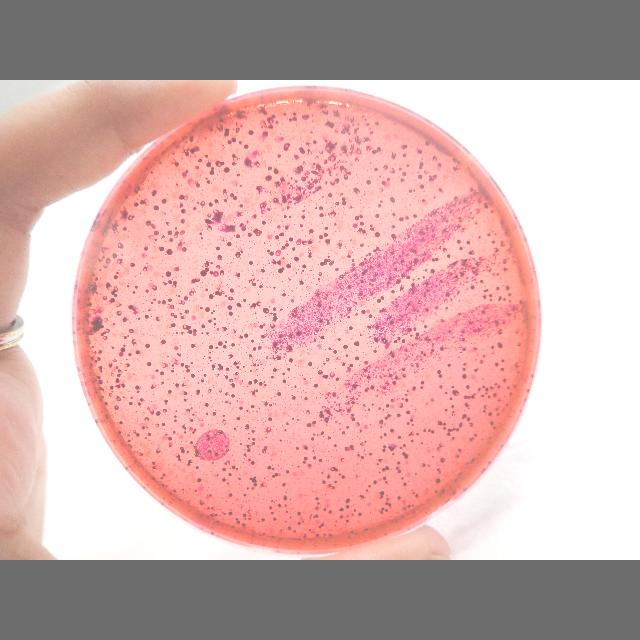colony: (234, 110, 250, 122), (324, 141, 338, 153), (212, 209, 224, 223), (243, 156, 253, 170), (172, 158, 182, 170), (181, 149, 193, 159), (256, 107, 268, 117), (292, 164, 304, 174), (340, 144, 350, 156), (190, 146, 200, 156), (325, 120, 335, 130), (272, 354, 282, 364), (254, 186, 266, 194), (451, 164, 461, 173), (216, 158, 224, 168), (222, 166, 232, 174), (332, 109, 340, 119), (283, 142, 291, 152), (328, 152, 336, 162), (306, 100, 316, 108), (428, 175, 438, 183), (452, 157, 462, 165), (218, 116, 228, 124), (133, 186, 143, 194), (234, 210, 244, 218), (204, 218, 214, 226), (264, 425, 272, 435), (291, 308, 299, 318), (340, 271, 350, 279), (354, 136, 362, 146), (352, 187, 361, 195), (286, 343, 294, 352), (408, 248, 418, 255), (194, 180, 202, 188), (231, 154, 239, 162), (223, 128, 231, 136), (298, 147, 306, 155), (306, 148, 314, 156), (342, 124, 350, 132), (424, 140, 432, 148), (390, 151, 398, 159), (216, 124, 224, 132), (180, 208, 188, 216), (206, 225, 214, 233), (254, 228, 262, 236), (265, 174, 273, 182), (336, 240, 344, 248), (166, 248, 174, 256), (117, 242, 125, 250), (199, 270, 207, 278), (262, 307, 270, 315), (380, 336, 388, 344), (423, 280, 431, 288), (461, 258, 469, 266), (472, 268, 480, 276), (511, 304, 519, 312), (388, 350, 396, 358), (432, 207, 440, 215), (312, 170, 321, 177), (418, 162, 424, 172), (222, 189, 228, 199), (350, 384, 360, 390), (408, 288, 418, 294), (205, 161, 212, 169), (208, 124, 215, 132), (160, 198, 168, 205), (213, 198, 220, 206), (354, 340, 361, 348), (272, 198, 280, 205), (379, 307, 388, 313), (449, 261, 458, 267), (196, 158, 204, 164), (208, 170, 216, 176), (180, 172, 188, 178), (266, 118, 274, 124), (302, 114, 310, 120), (321, 110, 329, 116), (320, 104, 328, 110), (344, 114, 350, 122), (400, 145, 408, 151), (388, 167, 396, 173), (152, 190, 158, 198), (178, 194, 184, 202), (200, 200, 206, 208), (271, 258, 277, 266), (292, 256, 300, 262), (325, 239, 331, 247), (296, 238, 302, 246), (274, 168, 280, 176), (374, 232, 382, 238), (390, 196, 396, 204), (164, 221, 172, 227), (128, 215, 136, 221), (142, 265, 148, 273), (166, 270, 172, 278), (106, 282, 112, 290), (146, 360, 152, 368), (390, 233, 398, 239), (218, 270, 226, 276), (215, 264, 223, 270), (213, 270, 219, 278), (217, 254, 223, 262), (234, 272, 242, 278), (233, 360, 241, 366), (260, 333, 268, 339), (250, 302, 256, 310), (358, 260, 366, 266), (317, 318, 325, 324), (221, 326, 229, 332), (452, 390, 460, 396), (384, 380, 390, 388), (363, 366, 369, 374), (344, 381, 352, 387), (272, 340, 278, 348), (287, 332, 293, 340), (374, 336, 380, 344), (399, 284, 405, 292), (400, 272, 406, 280), (399, 258, 405, 266), (374, 262, 382, 268), (474, 261, 482, 267), (466, 320, 474, 326), (424, 336, 432, 342), (357, 227, 363, 235), (418, 230, 426, 236), (441, 228, 449, 234), (260, 202, 266, 210), (282, 195, 288, 203), (287, 192, 293, 200), (329, 178, 335, 186), (338, 165, 346, 171), (314, 163, 322, 169), (314, 186, 322, 192), (355, 146, 361, 154), (253, 162, 260, 168), (339, 104, 346, 110), (438, 188, 444, 195), (302, 240, 308, 247), (180, 230, 186, 237), (125, 362, 132, 368), (244, 424, 250, 431), (193, 452, 200, 458), (494, 319, 500, 326), (500, 240, 506, 247), (388, 275, 392, 285), (234, 127, 240, 133), (248, 130, 254, 136), (262, 131, 268, 137), (268, 124, 274, 130), (270, 114, 276, 120), (292, 116, 298, 122), (294, 155, 300, 161), (323, 159, 329, 165), (417, 150, 423, 156), (383, 165, 389, 171), (380, 181, 386, 187), (399, 178, 405, 184), (376, 146, 382, 152), (366, 179, 372, 185), (354, 157, 360, 163), (192, 206, 198, 212), (207, 201, 213, 207), (232, 195, 238, 201), (239, 203, 245, 209), (252, 214, 258, 220), (235, 233, 241, 239), (246, 231, 252, 237), (238, 222, 244, 228), (220, 237, 226, 243), (288, 236, 294, 242), (235, 252, 241, 258), (238, 248, 244, 254), (248, 260, 254, 266), (276, 260, 282, 266), (286, 263, 292, 269), (277, 268, 283, 274), (302, 264, 308, 270), (298, 280, 304, 286), (334, 266, 340, 272), (318, 234, 324, 240), (300, 214, 306, 220), (348, 204, 354, 210), (353, 223, 359, 229), (390, 224, 396, 230), (398, 216, 404, 222), (133, 202, 139, 208), (153, 205, 159, 211), (180, 218, 186, 224), (146, 220, 152, 226), (154, 230, 160, 236), (180, 239, 186, 245), (176, 242, 182, 248), (122, 226, 128, 232), (112, 253, 118, 259), (130, 262, 136, 268), (174, 266, 180, 272), (113, 274, 119, 280), (110, 298, 116, 304), (116, 310, 122, 316), (128, 304, 134, 310), (144, 314, 150, 320), (182, 324, 188, 330), (128, 328, 134, 334), (118, 352, 124, 358), (105, 328, 111, 334), (86, 302, 92, 308), (96, 356, 102, 362), (97, 379, 103, 385), (108, 392, 114, 398), (116, 396, 122, 402), (477, 197, 483, 203), (442, 247, 448, 253), (204, 261, 210, 267), (290, 298, 296, 304), (208, 294, 214, 300), (227, 305, 233, 311), (228, 311, 234, 317), (256, 301, 262, 307), (272, 306, 278, 312), (238, 334, 244, 340), (217, 341, 223, 347), (208, 344, 214, 350), (228, 354, 234, 360), (248, 354, 254, 360), (230, 382, 236, 388), (250, 390, 256, 396), (307, 361, 313, 367), (182, 390, 188, 396), (224, 391, 230, 397), (250, 362, 256, 368), (272, 316, 278, 322), (318, 261, 324, 267), (328, 260, 334, 266), (362, 269, 368, 275), (352, 272, 358, 278), (346, 284, 352, 290), (358, 290, 364, 296), (346, 306, 352, 312), (376, 298, 382, 304), (162, 408, 168, 414), (199, 500, 205, 506), (359, 494, 365, 500), (390, 446, 396, 452), (468, 436, 474, 442), (437, 420, 443, 426), (464, 402, 470, 408), (482, 404, 488, 410), (438, 384, 444, 390), (465, 384, 471, 390), (461, 374, 467, 380), (251, 476, 257, 482), (266, 464, 272, 470), (324, 417, 330, 423), (346, 407, 352, 413), (326, 391, 332, 397), (358, 428, 364, 434), (335, 376, 341, 382), (322, 374, 328, 380), (342, 344, 348, 350), (316, 302, 322, 308), (314, 291, 320, 297), (374, 324, 380, 330), (378, 308, 384, 314), (395, 278, 401, 284), (394, 266, 400, 272), (408, 266, 414, 272), (412, 258, 418, 264), (369, 282, 375, 288), (410, 282, 416, 288), (454, 274, 460, 280), (501, 259, 507, 265), (497, 342, 503, 348), (492, 392, 498, 398), (387, 372, 393, 378), (330, 210, 336, 216), (420, 236, 426, 242), (457, 216, 463, 222), (462, 197, 468, 203), (475, 208, 481, 214), (468, 249, 474, 255), (493, 247, 499, 253), (478, 256, 484, 262), (296, 186, 302, 192), (334, 178, 340, 184), (308, 183, 314, 189), (348, 150, 354, 156), (366, 145, 372, 151), (363, 137, 369, 143), (202, 155, 210, 159), (350, 116, 354, 124), (184, 195, 188, 203), (296, 330, 300, 338), (208, 514, 216, 518), (370, 278, 378, 282), (446, 272, 454, 276), (458, 272, 466, 276), (242, 225, 246, 232), (350, 444, 354, 451), (409, 343, 416, 347), (184, 169, 190, 173), (194, 166, 200, 170), (244, 144, 248, 150), (239, 140, 243, 146), (226, 140, 232, 144), (274, 121, 280, 125), (292, 112, 298, 116), (313, 140, 317, 146), (306, 142, 312, 146), (276, 154, 282, 158), (334, 128, 338, 134), (366, 122, 370, 128), (341, 130, 345, 136), (354, 128, 358, 134), (374, 122, 380, 126), (369, 130, 373, 136), (348, 138, 352, 144), (432, 156, 436, 162), (437, 162, 441, 168), (402, 171, 406, 177), (422, 170, 428, 174), (418, 174, 422, 180), (420, 184, 424, 190), (372, 150, 378, 154), (328, 192, 332, 198), (190, 136, 194, 142), (175, 144, 181, 148), (181, 136, 187, 140), (172, 141, 178, 145), (222, 199, 228, 203), (230, 192, 234, 198), (266, 208, 272, 212), (262, 220, 266, 226), (206, 214, 212, 218), (226, 242, 232, 246), (274, 235, 280, 239), (279, 232, 285, 236), (280, 246, 286, 250), (284, 243, 290, 247), (282, 292, 286, 298), (347, 254, 351, 260), (324, 232, 328, 238), (268, 234, 272, 240), (308, 239, 312, 245), (310, 229, 314, 235), (320, 212, 324, 218), (302, 176, 306, 182), (342, 200, 346, 206), (358, 214, 364, 218), (354, 216, 360, 220), (360, 242, 364, 248), (392, 212, 396, 218), (405, 215, 409, 221), (168, 230, 172, 236), (144, 246, 148, 252), (160, 246, 164, 252), (168, 238, 174, 242), (145, 288, 149, 294), (152, 286, 158, 290), (92, 272, 96, 278), (94, 276, 98, 282), (102, 296, 108, 300), (156, 316, 160, 322), (110, 291, 116, 295), (114, 286, 118, 292), (162, 299, 166, 305), (191, 279, 195, 285), (184, 310, 190, 314), (192, 328, 198, 332), (193, 332, 197, 338), (187, 324, 191, 330), (200, 324, 206, 328), (206, 306, 210, 312), (208, 318, 212, 324), (122, 318, 128, 322), (146, 343, 150, 349), (132, 343, 138, 347), (120, 348, 126, 352), (98, 366, 104, 370), (107, 364, 113, 368), (96, 375, 102, 379), (117, 384, 121, 390), (135, 386, 141, 390), (114, 406, 120, 410), (128, 401, 134, 405), (159, 371, 165, 375), (412, 214, 418, 218), (372, 249, 378, 253), (454, 195, 458, 201), (469, 188, 475, 192), (456, 240, 462, 244), (466, 240, 470, 246), (478, 234, 482, 240), (446, 254, 452, 258), (210, 260, 214, 266), (204, 268, 210, 272), (209, 270, 213, 276), (252, 282, 256, 288), (229, 288, 235, 292), (236, 302, 242, 306), (260, 324, 264, 330), (252, 347, 258, 351), (231, 342, 235, 348), (222, 345, 228, 349), (210, 364, 216, 368), (216, 372, 220, 378), (218, 366, 224, 370), (273, 368, 277, 374), (234, 372, 240, 376), (228, 378, 234, 382), (248, 380, 252, 386), (253, 378, 257, 384), (282, 378, 286, 384), (288, 358, 294, 362), (304, 396, 308, 402), (262, 402, 268, 406), (251, 404, 255, 410), (238, 406, 244, 410), (306, 423, 312, 427), (180, 362, 184, 368), (184, 364, 190, 368), (174, 384, 180, 388), (212, 412, 218, 416), (218, 388, 222, 394), (231, 393, 235, 399), (272, 313, 278, 317), (308, 250, 312, 256), (323, 259, 327, 265), (354, 300, 358, 306), (361, 310, 367, 314), (368, 314, 374, 318), (348, 326, 354, 330), (366, 325, 372, 329), (314, 328, 320, 332), (278, 334, 284, 338), (192, 344, 198, 348), (233, 329, 237, 335), (156, 411, 160, 417), (144, 416, 148, 422), (155, 423, 159, 429), (161, 422, 167, 426), (188, 458, 192, 464), (175, 455, 181, 459), (197, 478, 203, 482), (314, 514, 320, 518), (314, 506, 320, 510), (338, 507, 344, 511), (345, 504, 349, 510), (373, 480, 377, 486), (379, 491, 385, 495), (388, 502, 392, 508), (402, 506, 406, 512), (384, 466, 390, 470), (436, 478, 440, 484), (440, 457, 444, 463), (404, 453, 408, 459), (410, 430, 414, 436), (430, 430, 436, 434), (378, 420, 384, 424), (406, 410, 410, 416), (436, 446, 440, 452), (438, 443, 444, 447), (462, 413, 466, 419), (459, 422, 463, 428), (469, 422, 473, 428), (412, 386, 416, 392), (156, 448, 160, 454), (215, 452, 219, 458), (218, 430, 224, 434), (195, 448, 199, 454), (232, 464, 236, 470), (249, 442, 255, 446), (262, 448, 266, 454), (263, 446, 269, 450), (282, 482, 286, 488), (303, 446, 309, 450), (344, 446, 348, 452), (342, 431, 346, 437), (318, 414, 324, 418), (332, 392, 336, 398), (340, 475, 346, 479), (326, 474, 330, 480), (307, 464, 313, 468), (340, 458, 346, 462), (330, 467, 336, 471), (360, 442, 364, 448), (260, 482, 264, 488), (384, 404, 390, 408), (390, 398, 396, 402), (399, 402, 403, 408), (365, 386, 369, 392), (392, 380, 396, 386), (366, 376, 372, 380), (317, 370, 323, 374), (325, 357, 331, 361), (342, 361, 346, 367), (354, 357, 360, 361), (347, 366, 351, 372), (330, 372, 334, 378), (276, 345, 280, 351), (326, 320, 330, 326), (338, 294, 344, 298), (394, 338, 398, 344), (400, 339, 406, 343), (414, 332, 420, 336), (394, 304, 400, 308), (370, 291, 374, 297), (424, 308, 430, 312), (439, 318, 445, 322), (404, 254, 410, 258), (420, 258, 426, 262), (368, 266, 374, 270), (423, 292, 427, 298), (470, 266, 476, 270), (470, 284, 474, 290), (482, 294, 486, 300), (480, 310, 486, 314), (476, 328, 482, 332), (460, 329, 466, 333), (460, 338, 466, 342), (472, 347, 478, 351), (430, 348, 434, 354), (399, 314, 405, 318), (386, 315, 392, 319), (462, 362, 468, 366), (515, 362, 519, 368), (513, 384, 517, 390), (488, 386, 494, 390), (401, 374, 407, 378), (394, 374, 398, 380), (350, 267, 356, 271), (362, 230, 366, 236), (424, 226, 430, 230), (428, 212, 432, 218), (441, 216, 447, 220), (450, 202, 456, 206), (484, 202, 488, 208), (312, 180, 318, 184), (304, 171, 310, 175), (344, 174, 348, 180), (346, 170, 350, 176), (321, 168, 325, 174), (350, 144, 354, 150), (272, 351, 278, 354), (456, 290, 459, 296), (206, 180, 210, 184), (232, 162, 236, 166), (232, 138, 236, 142), (283, 112, 287, 116), (288, 118, 292, 122), (280, 137, 284, 141), (324, 139, 328, 143), (319, 150, 323, 154), (314, 155, 318, 159), (356, 122, 360, 126), (364, 118, 368, 122), (368, 138, 372, 142), (402, 154, 406, 158), (406, 164, 410, 168), (374, 168, 378, 172), (386, 177, 390, 181), (408, 190, 412, 194), (412, 189, 416, 193), (421, 199, 425, 203), (162, 150, 166, 154), (144, 167, 148, 171), (175, 182, 179, 186), (180, 204, 184, 208), (246, 220, 250, 224), (216, 246, 220, 250), (267, 249, 271, 253), (270, 252, 274, 256), (292, 247, 296, 251), (261, 269, 265, 273), (281, 266, 285, 270), (298, 278, 302, 282), (272, 286, 276, 290), (318, 272, 322, 276), (325, 226, 329, 230), (333, 222, 337, 226), (299, 224, 303, 228), (277, 225, 281, 229), (283, 215, 287, 219), (288, 215, 292, 219), (302, 209, 306, 213), (319, 206, 323, 210), (268, 167, 272, 171), (340, 192, 344, 196), (335, 202, 339, 206), (342, 197, 346, 201), (360, 222, 364, 226), (375, 214, 379, 218), (378, 204, 382, 208), (380, 188, 384, 192), (161, 235, 165, 239), (152, 225, 156, 229), (154, 238, 158, 242), (182, 248, 186, 252), (175, 231, 179, 235), (174, 234, 178, 238), (142, 254, 146, 258), (99, 268, 103, 272), (126, 284, 130, 288), (132, 290, 136, 294), (168, 280, 172, 284), (173, 281, 177, 285), (172, 285, 176, 289), (119, 302, 123, 306), (137, 317, 141, 321), (152, 298, 156, 302), (114, 294, 118, 298), (168, 298, 172, 302), (177, 294, 181, 298), (184, 296, 188, 300), (170, 312, 174, 316), (173, 315, 177, 319), (182, 315, 186, 319), (172, 323, 176, 327), (169, 324, 173, 328), (188, 330, 192, 334), (213, 322, 217, 326), (162, 340, 166, 344), (112, 322, 116, 326), (132, 339, 136, 343), (128, 352, 132, 356), (136, 351, 140, 355), (111, 346, 115, 350), (104, 336, 108, 340), (87, 297, 91, 301), (91, 345, 95, 349), (98, 350, 102, 354), (93, 350, 97, 354), (90, 356, 94, 360), (115, 378, 119, 382), (117, 373, 121, 377), (110, 385, 114, 389), (99, 386, 103, 390), (121, 384, 125, 388), (99, 398, 103, 402), (104, 402, 108, 406), (137, 390, 141, 394), (138, 402, 142, 406), (140, 398, 144, 402), (155, 369, 159, 373), (166, 354, 170, 358), (368, 253, 372, 257), (376, 247, 380, 251), (487, 233, 491, 237), (491, 240, 495, 244), (459, 247, 463, 251), (435, 257, 439, 261), (424, 268, 428, 272), (430, 269, 434, 273), (205, 288, 209, 292), (243, 298, 247, 302), (228, 296, 232, 300), (262, 323, 266, 327), (244, 334, 248, 338), (225, 367, 229, 371), (236, 365, 240, 369), (224, 375, 228, 379), (259, 382, 263, 386), (270, 375, 274, 379), (282, 372, 286, 376), (277, 392, 281, 396), (292, 396, 296, 400), (268, 418, 272, 422), (312, 420, 316, 424), (306, 410, 310, 414), (237, 417, 241, 421), (251, 430, 255, 434), (186, 369, 190, 373), (191, 374, 195, 378), (201, 378, 205, 382), (161, 381, 165, 385), (168, 390, 172, 394), (183, 398, 187, 402), (196, 392, 200, 396), (205, 403, 209, 407), (190, 418, 194, 422), (207, 388, 211, 392), (225, 400, 229, 404), (257, 346, 261, 350), (268, 312, 272, 316), (308, 255, 312, 259), (351, 259, 355, 263), (351, 263, 355, 267), (360, 280, 364, 284), (328, 306, 332, 310), (355, 313, 359, 317), (380, 296, 384, 300), (338, 338, 342, 342), (320, 336, 324, 340), (164, 400, 168, 404), (174, 419, 178, 423), (186, 408, 190, 412), (193, 428, 197, 432), (190, 441, 194, 445), (180, 446, 184, 450), (195, 465, 199, 469), (178, 458, 182, 462), (152, 466, 156, 470), (212, 506, 216, 510), (228, 512, 232, 516), (228, 493, 232, 497), (222, 478, 226, 482), (238, 477, 242, 481), (236, 520, 240, 524), (242, 522, 246, 526), (261, 518, 265, 522), (248, 514, 252, 518), (283, 496, 287, 500), (297, 512, 301, 516), (287, 526, 291, 530), (293, 530, 297, 534), (262, 532, 266, 536), (308, 528, 312, 532), (304, 532, 308, 536), (315, 533, 319, 537), (328, 510, 332, 514), (339, 515, 343, 519), (346, 498, 350, 502), (358, 512, 362, 516), (367, 484, 371, 488), (384, 508, 388, 512), (384, 502, 388, 506), (385, 497, 389, 501), (397, 496, 401, 500), (383, 476, 387, 480), (381, 468, 385, 472), (378, 459, 382, 463), (395, 466, 399, 470), (397, 469, 401, 473), (422, 463, 426, 467), (382, 448, 386, 452), (390, 429, 394, 433), (402, 443, 406, 447), (388, 445, 392, 449), (402, 452, 406, 456), (423, 429, 427, 433), (428, 428, 432, 432), (409, 418, 413, 422), (387, 414, 391, 418), (397, 413, 401, 417), (447, 432, 451, 436), (458, 449, 462, 453), (473, 433, 477, 437), (447, 428, 451, 432), (456, 428, 460, 432), (442, 422, 446, 426), (444, 408, 448, 412), (451, 404, 455, 408), (466, 417, 470, 421), (490, 422, 494, 426), (488, 412, 492, 416), (464, 396, 468, 400), (467, 396, 471, 400), (471, 395, 475, 399), (421, 381, 425, 385), (438, 374, 442, 378), (127, 438, 131, 442), (136, 433, 140, 437), (148, 433, 152, 437), (168, 444, 172, 448), (207, 437, 211, 441), (226, 448, 230, 452), (222, 467, 226, 471), (243, 453, 247, 457), (250, 461, 254, 465), (278, 438, 282, 442), (246, 444, 250, 448), (246, 448, 250, 452), (271, 467, 275, 471), (285, 470, 289, 474), (275, 473, 279, 477), (304, 457, 308, 461), (302, 461, 306, 465), (312, 456, 316, 460), (318, 458, 322, 462), (311, 437, 315, 441), (320, 431, 324, 435), (327, 436, 331, 440), (368, 452, 372, 456), (364, 439, 368, 443), (346, 425, 350, 429), (319, 410, 323, 414), (351, 413, 355, 417), (351, 417, 355, 421), (356, 422, 360, 426), (338, 408, 342, 412), (362, 403, 366, 407), (350, 397, 354, 401), (314, 384, 318, 388), (322, 480, 326, 484), (328, 484, 332, 488), (331, 486, 335, 490), (338, 472, 342, 476), (335, 468, 339, 472), (404, 398, 408, 402), (370, 385, 374, 389), (382, 386, 386, 390), (322, 362, 326, 366), (334, 350, 338, 354), (336, 356, 340, 360), (345, 354, 349, 358), (349, 363, 353, 367), (364, 361, 368, 365), (313, 338, 317, 342), (301, 309, 305, 313), (390, 320, 394, 324), (407, 328, 411, 332), (414, 336, 418, 340), (407, 302, 411, 306), (391, 290, 395, 294), (446, 292, 450, 296), (435, 306, 439, 310), (458, 312, 462, 316), (407, 275, 411, 279), (401, 251, 405, 255), (374, 272, 378, 276), (383, 256, 387, 260), (426, 288, 430, 292), (432, 290, 436, 294), (440, 280, 444, 284), (465, 276, 469, 280), (488, 268, 492, 272), (504, 267, 508, 271), (506, 286, 510, 290), (489, 294, 493, 298), (489, 298, 493, 302), (498, 296, 502, 300), (507, 293, 511, 297), (507, 313, 511, 317), (518, 300, 522, 304), (473, 328, 477, 332), (490, 345, 494, 349), (462, 347, 466, 351), (440, 346, 444, 350), (448, 330, 452, 334), (420, 351, 424, 355), (404, 348, 408, 352), (398, 318, 402, 322), (447, 363, 451, 367), (462, 367, 466, 371), (482, 354, 486, 358), (473, 368, 477, 372), (480, 360, 484, 364), (494, 362, 498, 366), (500, 368, 504, 372), (494, 382, 498, 386), (497, 385, 501, 389), (502, 378, 506, 382), (509, 392, 513, 396), (477, 388, 481, 392), (480, 394, 484, 398), (497, 398, 501, 402), (402, 367, 406, 371), (415, 362, 419, 366), (383, 374, 387, 378), (431, 234, 435, 238), (449, 210, 453, 214), (456, 224, 460, 228), (462, 228, 466, 232), (458, 200, 462, 204), (516, 342, 520, 346), (498, 330, 502, 334), (286, 206, 290, 210), (282, 190, 286, 194), (302, 190, 306, 194), (312, 190, 316, 194), (324, 181, 328, 185), (204, 177, 208, 180), (361, 115, 365, 118), (172, 152, 175, 156), (199, 232, 203, 235), (314, 207, 318, 210), (312, 162, 316, 165), (180, 316, 183, 320), (180, 331, 183, 335), (112, 360, 118, 362), (102, 388, 105, 392), (130, 396, 134, 399), (170, 369, 173, 373), (208, 356, 212, 359), (222, 414, 225, 418), (346, 316, 352, 318), (331, 316, 334, 320), (183, 431, 187, 434), (187, 450, 190, 454), (152, 476, 156, 479), (215, 512, 218, 516), (217, 520, 220, 524), (242, 514, 248, 516), (268, 506, 272, 509), (316, 526, 322, 528), (381, 507, 384, 511), (384, 481, 388, 484), (376, 462, 379, 466), (396, 462, 402, 464), (436, 468, 439, 472), (438, 471, 442, 474), (416, 432, 419, 436), (406, 422, 409, 426), (384, 416, 388, 419), (442, 428, 448, 430), (492, 426, 496, 429), (437, 371, 441, 374), (118, 431, 122, 434), (144, 436, 148, 439), (207, 434, 210, 438), (272, 474, 274, 480), (356, 453, 359, 457), (334, 481, 338, 484), (373, 351, 377, 354), (398, 255, 402, 258), (422, 252, 426, 255), (481, 279, 484, 283), (464, 281, 470, 283), (496, 272, 499, 276), (496, 287, 499, 291), (436, 336, 440, 339), (506, 386, 510, 389), (411, 364, 414, 368), (456, 454, 459, 458), (515, 331, 519, 334), (288, 200, 292, 203), (328, 170, 332, 173), (200, 237, 203, 240), (115, 366, 118, 369), (225, 341, 228, 344), (160, 476, 163, 479), (401, 476, 404, 479), (421, 386, 424, 389), (172, 431, 175, 434), (491, 210, 494, 213), (211, 168, 215, 170), (236, 174, 240, 176), (310, 120, 314, 122), (312, 114, 314, 118), (310, 130, 312, 134), (298, 137, 302, 139), (348, 132, 350, 136), (421, 158, 423, 162), (398, 168, 402, 170), (378, 175, 382, 177), (434, 195, 436, 199), (150, 172, 154, 174), (197, 201, 199, 205), (282, 258, 286, 260), (296, 260, 300, 262), (301, 270, 305, 272), (294, 272, 298, 274), (288, 278, 292, 280), (260, 285, 262, 289), (266, 286, 268, 290), (294, 180, 298, 182), (290, 178, 294, 180), (350, 238, 352, 242), (338, 247, 342, 249), (369, 228, 373, 230), (380, 200, 382, 204), (174, 228, 178, 230), (150, 224, 154, 226), (116, 272, 120, 274), (135, 286, 139, 288), (150, 276, 152, 280), (164, 282, 166, 286), (158, 300, 160, 304), (180, 312, 182, 316), (175, 332, 179, 334), (206, 331, 208, 335), (200, 306, 202, 310), (213, 318, 217, 320), (102, 332, 106, 334), (100, 334, 104, 336), (94, 360, 98, 362), (99, 370, 103, 372), (114, 385, 118, 387), (110, 390, 114, 392), (122, 396, 126, 398), (133, 373, 137, 375), (172, 364, 174, 368), (176, 352, 178, 356), (178, 354, 182, 356), (432, 258, 434, 262), (422, 276, 426, 278), (280, 308, 282, 312), (238, 306, 242, 308), (208, 352, 212, 354), (210, 358, 212, 362), (218, 364, 222, 366), (256, 364, 260, 366), (255, 390, 259, 392), (287, 368, 291, 370), (294, 385, 296, 389), (268, 404, 272, 406), (286, 422, 288, 426), (296, 419, 300, 421), (284, 428, 286, 432), (203, 374, 207, 376), (196, 390, 200, 392), (228, 402, 232, 404), (266, 356, 268, 360), (328, 259, 330, 263), (390, 252, 394, 254), (282, 356, 286, 358), (181, 450, 185, 452), (162, 474, 166, 476), (152, 462, 156, 464), (166, 484, 168, 488), (182, 488, 184, 492), (172, 490, 176, 492), (224, 512, 226, 516), (236, 517, 238, 521), (228, 474, 232, 476), (243, 494, 247, 496), (258, 520, 260, 524), (248, 518, 252, 520), (248, 510, 250, 514), (274, 517, 276, 521), (270, 512, 274, 514), (270, 500, 274, 502), (278, 503, 280, 507), (285, 504, 287, 508), (284, 521, 288, 523), (298, 522, 300, 526), (302, 520, 304, 524), (280, 528, 282, 532), (271, 536, 275, 538), (323, 534, 327, 536), (329, 534, 333, 536), (320, 524, 324, 526), (308, 516, 312, 518), (316, 502, 320, 504), (315, 498, 319, 500), (324, 508, 326, 512), (354, 508, 356, 512), (350, 514, 354, 516), (346, 514, 348, 518), (379, 496, 383, 498), (408, 504, 410, 508), (379, 478, 381, 482), (378, 471, 382, 473), (404, 482, 406, 486), (412, 492, 416, 494), (416, 494, 418, 498), (415, 472, 417, 476), (392, 452, 394, 456), (382, 446, 386, 448), (384, 432, 386, 436), (398, 435, 400, 439), (400, 446, 402, 450), (391, 453, 395, 455), (395, 444, 397, 448), (452, 428, 456, 430), (482, 410, 486, 412), (444, 392, 448, 394), (120, 421, 122, 425), (127, 433, 129, 437), (134, 430, 136, 434), (142, 426, 144, 430), (168, 438, 172, 440), (183, 427, 187, 429), (208, 450, 210, 454), (226, 444, 228, 448), (235, 468, 239, 470), (248, 458, 250, 462), (254, 484, 258, 486), (296, 447, 298, 451), (312, 434, 316, 436), (316, 434, 320, 436), (334, 443, 336, 447), (338, 428, 342, 430), (339, 422, 341, 426), (338, 403, 342, 405), (368, 408, 370, 412), (344, 402, 348, 404), (352, 402, 356, 404), (358, 392, 360, 396), (348, 390, 352, 392), (312, 450, 316, 452), (222, 420, 226, 422), (404, 394, 408, 396), (376, 388, 378, 392), (328, 348, 332, 350), (344, 298, 348, 300), (380, 328, 384, 330), (414, 327, 416, 331), (410, 334, 412, 338), (424, 326, 428, 328), (416, 310, 420, 312), (446, 306, 448, 310), (380, 274, 384, 276), (435, 278, 439, 280), (468, 265, 472, 267), (474, 278, 476, 282), (459, 282, 461, 286), (492, 272, 494, 276), (482, 269, 486, 271), (498, 298, 500, 302), (502, 298, 506, 300), (483, 306, 487, 308), (502, 322, 506, 324), (459, 346, 463, 348), (432, 343, 434, 347), (407, 318, 411, 320), (486, 387, 488, 391), (482, 386, 486, 388), (484, 393, 488, 395), (358, 378, 362, 380), (379, 376, 383, 378), (446, 219, 448, 223), (474, 222, 478, 224), (494, 234, 498, 236), (368, 423, 372, 425), (466, 462, 468, 466), (290, 187, 294, 189), (296, 186, 300, 188), (308, 192, 312, 194), (326, 168, 330, 170), (332, 167, 336, 169), (240, 185, 242, 188), (370, 225, 372, 228), (200, 332, 203, 334), (217, 328, 220, 330), (124, 336, 126, 339), (102, 396, 105, 398), (172, 367, 175, 369), (366, 255, 368, 258), (255, 312, 258, 314), (216, 346, 218, 349), (242, 366, 245, 368), (241, 346, 243, 349), (263, 381, 265, 384), (190, 362, 193, 364), (190, 407, 193, 409), (192, 431, 194, 434), (195, 490, 198, 492), (208, 506, 210, 509), (227, 482, 230, 484), (381, 512, 384, 514), (380, 436, 382, 439), (411, 440, 414, 442), (421, 442, 424, 444), (452, 436, 454, 439), (496, 414, 499, 416), (212, 436, 214, 439), (252, 438, 255, 440), (296, 446, 298, 449), (362, 456, 364, 459), (327, 406, 329, 409), (326, 396, 328, 399), (210, 462, 213, 464), (406, 390, 409, 392), (391, 301, 394, 303), (461, 268, 464, 270), (461, 335, 464, 337), (476, 368, 479, 370), (517, 371, 519, 374), (416, 366, 419, 368), (302, 187, 304, 190), (308, 180, 310, 183), (352, 124, 354, 126), (370, 127, 372, 129), (394, 123, 396, 125), (422, 158, 424, 160), (417, 172, 419, 174), (423, 190, 425, 192), (186, 141, 188, 143), (160, 162, 162, 164), (147, 180, 149, 182), (264, 242, 266, 244), (269, 241, 271, 243), (286, 240, 288, 242), (318, 278, 320, 280), (316, 284, 318, 286), (304, 274, 306, 276), (309, 292, 311, 294), (328, 256, 330, 258), (304, 235, 306, 237), (302, 230, 304, 232), (334, 200, 336, 202), (364, 237, 366, 239), (118, 269, 120, 271), (139, 272, 141, 274), (162, 275, 164, 277), (150, 280, 152, 282), (162, 281, 164, 283), (96, 292, 98, 294), (151, 302, 153, 304), (175, 295, 177, 297), (213, 310, 215, 312), (211, 312, 213, 314), (127, 335, 129, 337), (124, 345, 126, 347), (120, 363, 122, 365), (126, 358, 128, 360), (384, 244, 386, 246), (417, 278, 419, 280), (225, 295, 227, 297), (252, 340, 254, 342), (214, 362, 216, 364), (212, 368, 214, 370), (250, 370, 252, 372), (256, 369, 258, 371), (217, 368, 219, 370), (241, 380, 243, 382), (264, 384, 266, 386), (304, 378, 306, 380), (299, 375, 301, 377), (291, 394, 293, 396), (274, 403, 276, 405), (258, 407, 260, 409), (246, 410, 248, 412), (256, 411, 258, 413), (292, 418, 294, 420), (234, 428, 236, 430), (197, 382, 199, 384), (192, 414, 194, 416), (206, 413, 208, 415), (258, 343, 260, 345), (262, 341, 264, 343), (364, 258, 366, 260), (176, 410, 178, 412), (174, 416, 176, 418), (184, 414, 186, 416), (188, 463, 190, 465), (162, 484, 164, 486), (210, 494, 212, 496), (222, 512, 224, 514), (247, 487, 249, 489), (226, 501, 228, 503), (252, 488, 254, 490), (244, 518, 246, 520), (276, 499, 278, 501), (289, 498, 291, 500), (286, 491, 288, 493), (286, 511, 288, 513), (289, 516, 291, 518), (304, 536, 306, 538), (298, 538, 300, 540), (312, 531, 314, 533), (313, 516, 315, 518), (310, 514, 312, 516), (335, 520, 337, 522), (334, 525, 336, 527), (346, 520, 348, 522), (370, 512, 372, 514), (366, 490, 368, 492), (412, 504, 414, 506), (412, 489, 414, 491), (428, 465, 430, 467), (432, 456, 434, 458), (408, 434, 410, 436), (412, 424, 414, 426), (380, 426, 382, 428), (451, 414, 453, 416), (452, 411, 454, 413), (450, 398, 452, 400), (496, 408, 498, 410), (468, 407, 470, 409), (452, 386, 454, 388), (474, 394, 476, 396), (146, 426, 148, 428), (165, 434, 167, 436), (182, 426, 184, 428), (240, 443, 242, 445), (248, 438, 250, 440), (250, 478, 252, 480), (297, 465, 299, 467), (313, 450, 315, 452), (326, 424, 328, 426), (335, 421, 337, 423), (331, 414, 333, 416), (328, 408, 330, 410), (334, 408, 336, 410), (328, 401, 330, 403), (334, 401, 336, 403), (335, 404, 337, 406), (335, 409, 337, 411), (337, 410, 339, 412), (350, 417, 352, 419), (343, 410, 345, 412), (338, 406, 340, 408), (357, 403, 359, 405), (348, 402, 350, 404), (356, 398, 358, 400), (346, 396, 348, 398), (372, 404, 374, 406), (321, 472, 323, 474), (364, 449, 366, 451), (379, 408, 381, 410), (382, 409, 384, 411), (402, 398, 404, 400), (377, 389, 379, 391), (360, 335, 362, 337), (373, 333, 375, 335), (386, 325, 388, 327), (420, 315, 422, 317), (426, 264, 428, 266), (385, 278, 387, 280), (386, 262, 388, 264), (475, 282, 477, 284), (471, 277, 473, 279), (463, 284, 465, 286), (486, 266, 488, 268), (484, 290, 486, 292), (486, 290, 488, 292), (509, 300, 511, 302), (460, 352, 462, 354), (452, 336, 454, 338), (424, 354, 426, 356), (423, 331, 425, 333), (475, 358, 477, 360), (502, 360, 504, 362), (488, 396, 490, 398), (506, 404, 508, 406), (387, 370, 389, 372), (389, 368, 391, 370), (328, 213, 330, 215), (432, 230, 434, 232), (412, 224, 414, 226), (470, 212, 472, 214), (482, 378, 484, 380), (458, 300, 460, 302), (280, 194, 282, 196), (289, 187, 291, 189), (288, 182, 290, 184), (290, 185, 292, 187), (293, 203, 295, 205), (306, 176, 308, 178), (330, 174, 332, 176), (315, 168, 317, 170), (334, 164, 336, 166), (345, 161, 347, 163), (386, 243, 388, 244), (261, 341, 263, 342), (236, 498, 238, 499), (330, 407, 332, 408), (330, 397, 332, 398), (347, 414, 348, 416), (361, 404, 362, 406), (351, 394, 352, 396), (342, 391, 343, 393), (362, 352, 364, 353), (394, 331, 396, 332), (458, 357, 459, 359), (322, 196, 323, 198), (321, 198, 322, 200), (342, 161, 343, 163), (338, 159, 339, 161), (328, 417, 329, 418), (328, 387, 329, 388), (338, 213, 339, 214), (416, 148, 418, 148), (266, 250, 266, 252), (152, 316, 152, 318), (128, 392, 130, 392), (274, 402, 274, 404), (284, 414, 284, 414), (178, 404, 178, 406), (274, 501, 274, 503), (378, 510, 379, 510), (387, 496, 388, 496), (388, 444, 390, 444), (384, 424, 386, 424), (266, 437, 266, 438), (332, 422, 332, 423), (322, 420, 322, 420), (331, 418, 332, 418), (334, 416, 334, 418), (331, 426, 332, 426), (334, 414, 336, 414), (342, 414, 342, 414), (302, 397, 302, 398), (321, 398, 322, 398), (341, 412, 343, 412), (352, 406, 352, 406), (351, 400, 352, 400), (348, 400, 348, 400), (337, 398, 339, 398), (340, 394, 340, 394), (350, 394, 350, 394), (346, 394, 346, 394), (348, 394, 348, 394), (334, 388, 336, 388), (384, 332, 386, 332), (296, 184, 296, 186), (305, 190, 307, 190), (322, 198, 322, 198), (310, 206, 310, 207), (303, 202, 305, 202), (304, 206, 304, 208), (320, 198, 320, 200), (338, 161, 338, 163), (340, 161, 340, 163)
